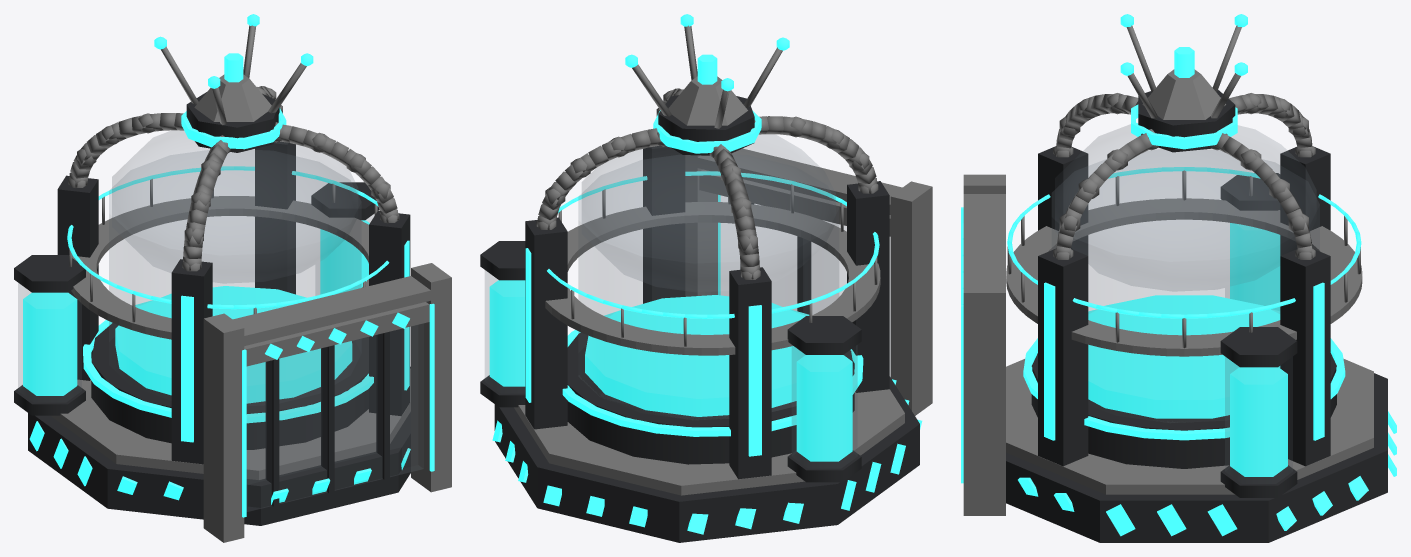
File: MonsterVat_VEX.glb
3 views of the same model, side by side, from view 1: azimuth 30°, elevation 25°; view 2: azimuth 150°, elevation 25°; view 3: azimuth 270°, elevation 25° (orthographic). The views are drawn at different scales.
Visible parts, largest first — view 1: MonsterVat_VEX, MonsterVat_VEX_Gate; view 2: MonsterVat_VEX, MonsterVat_VEX_Gate; view 3: MonsterVat_VEX.
Part boxes in pixels (box(x1,y1,x2,y2)): MonsterVat_VEX: box(14, 14, 451, 542); MonsterVat_VEX_Gate: box(244, 302, 429, 511); MonsterVat_VEX: box(480, 14, 932, 542); MonsterVat_VEX_Gate: box(699, 169, 890, 375); MonsterVat_VEX: box(961, 14, 1396, 542).
Bounding box in the file's own units: 5.08 × 5.45 × 5.14.
